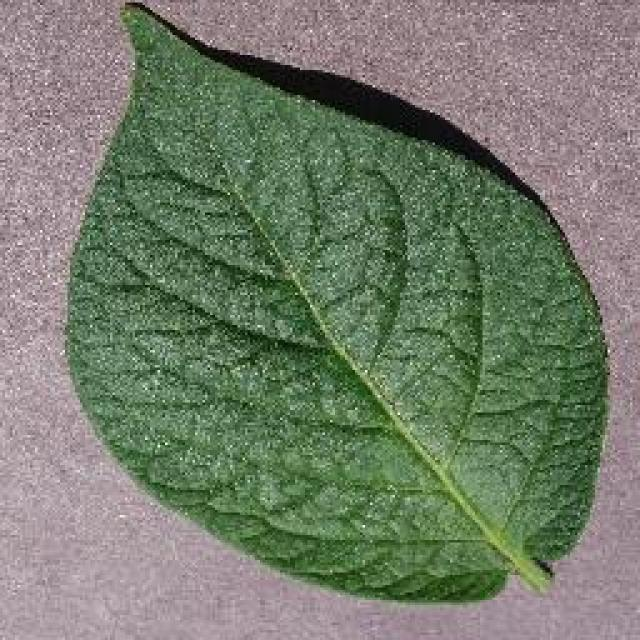Potato: (62, 0, 612, 605)
